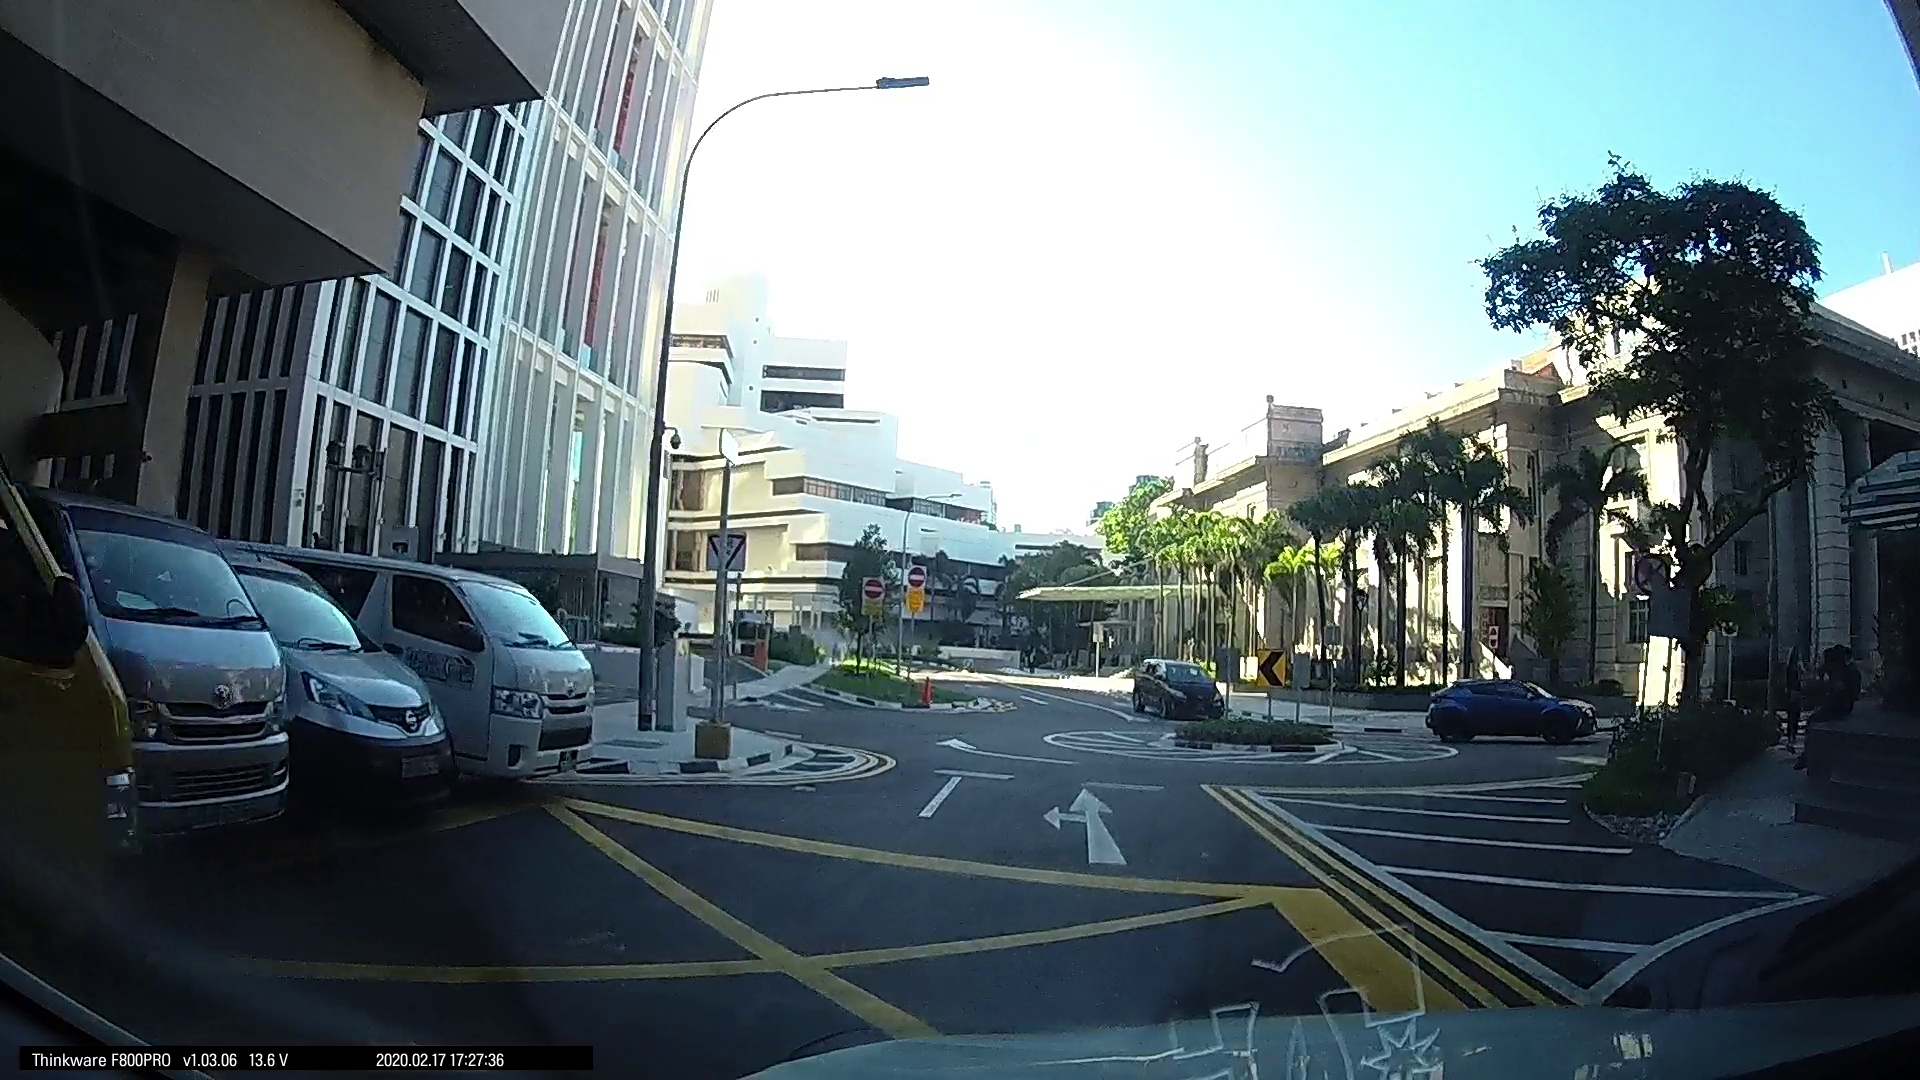Light Vehicle: (3, 483, 309, 868), (280, 546, 604, 786), (179, 547, 487, 799), (1418, 671, 1594, 742), (1124, 655, 1228, 720)
